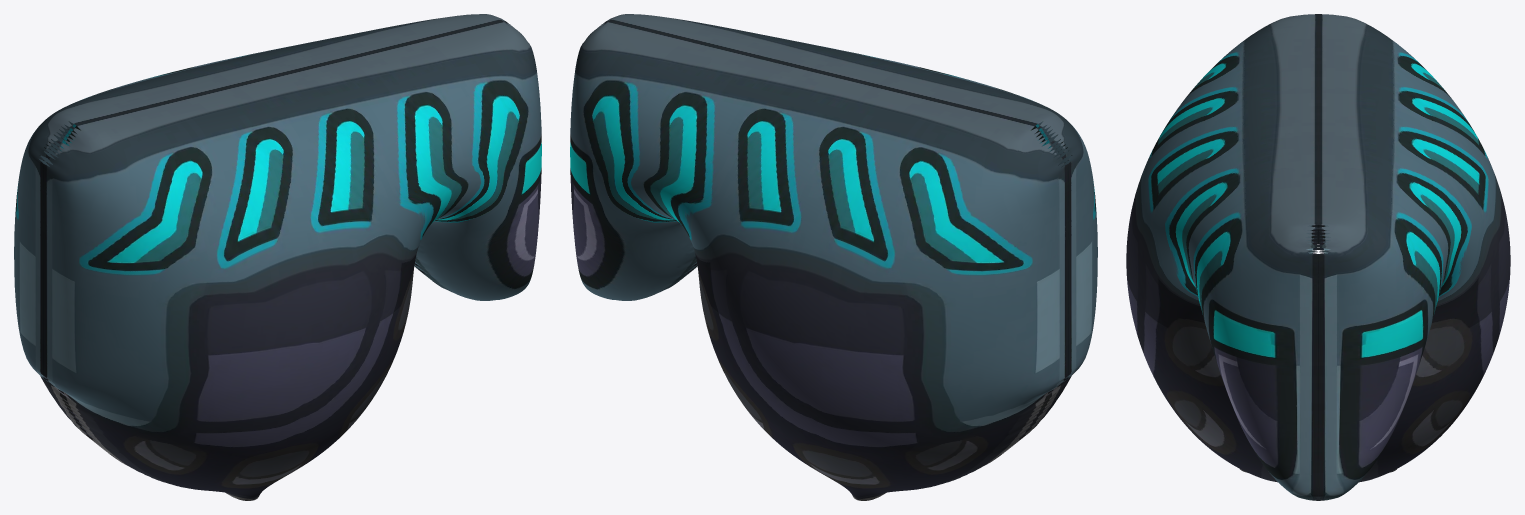
Rendered from chassis_joint.glb.
3 renders of one model, left to right at view 1: azimuth 30°, elevation 25°; view 2: azimuth 150°, elevation 25°; view 3: azimuth 270°, elevation 25°, orthographic.
Parts seen in each view (by area): view 1: chassis_joint; view 2: chassis_joint; view 3: chassis_joint.
Part boxes in pixels (left/top/right/bottom): chassis_joint: left=14, top=14, right=541, bottom=500; chassis_joint: left=570, top=14, right=1097, bottom=500; chassis_joint: left=1126, top=14, right=1510, bottom=500.
Size of the model in its own units: 0.989 by 0.7535 by 0.6801.
Materials: 1 (1 with a texture image).
